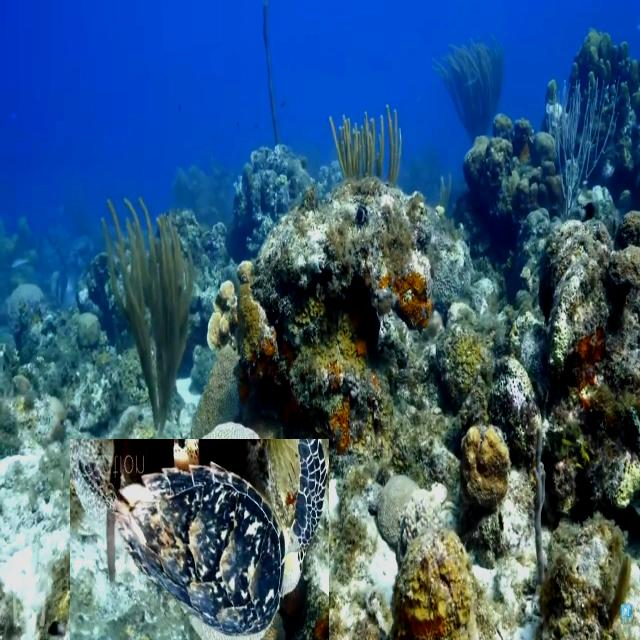Sea turtle: (70, 439, 329, 640)
